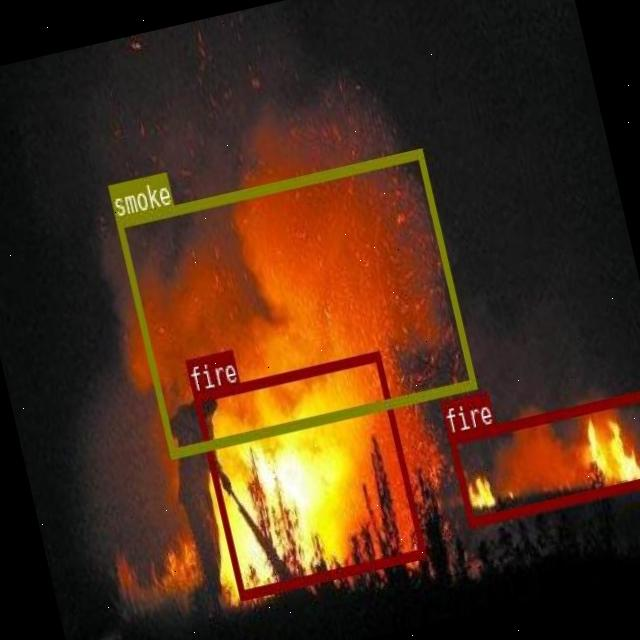fire: (192, 350, 425, 598), (448, 385, 640, 525)
smoke: (114, 148, 476, 458)
